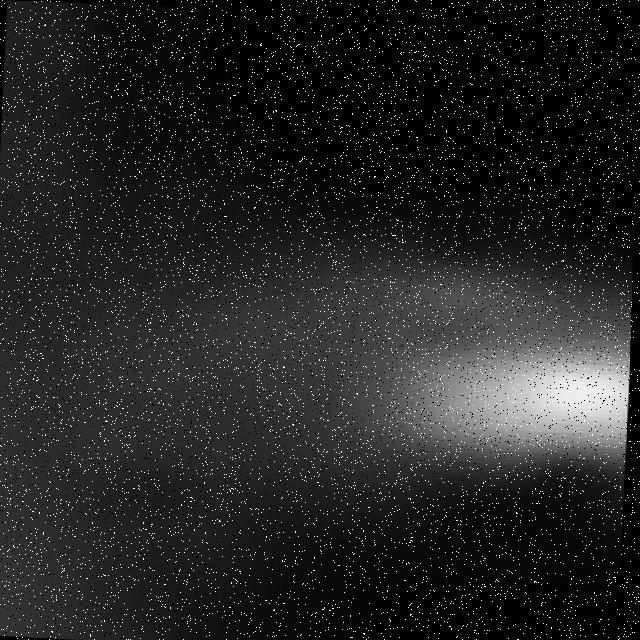person: (185, 234, 636, 484)
